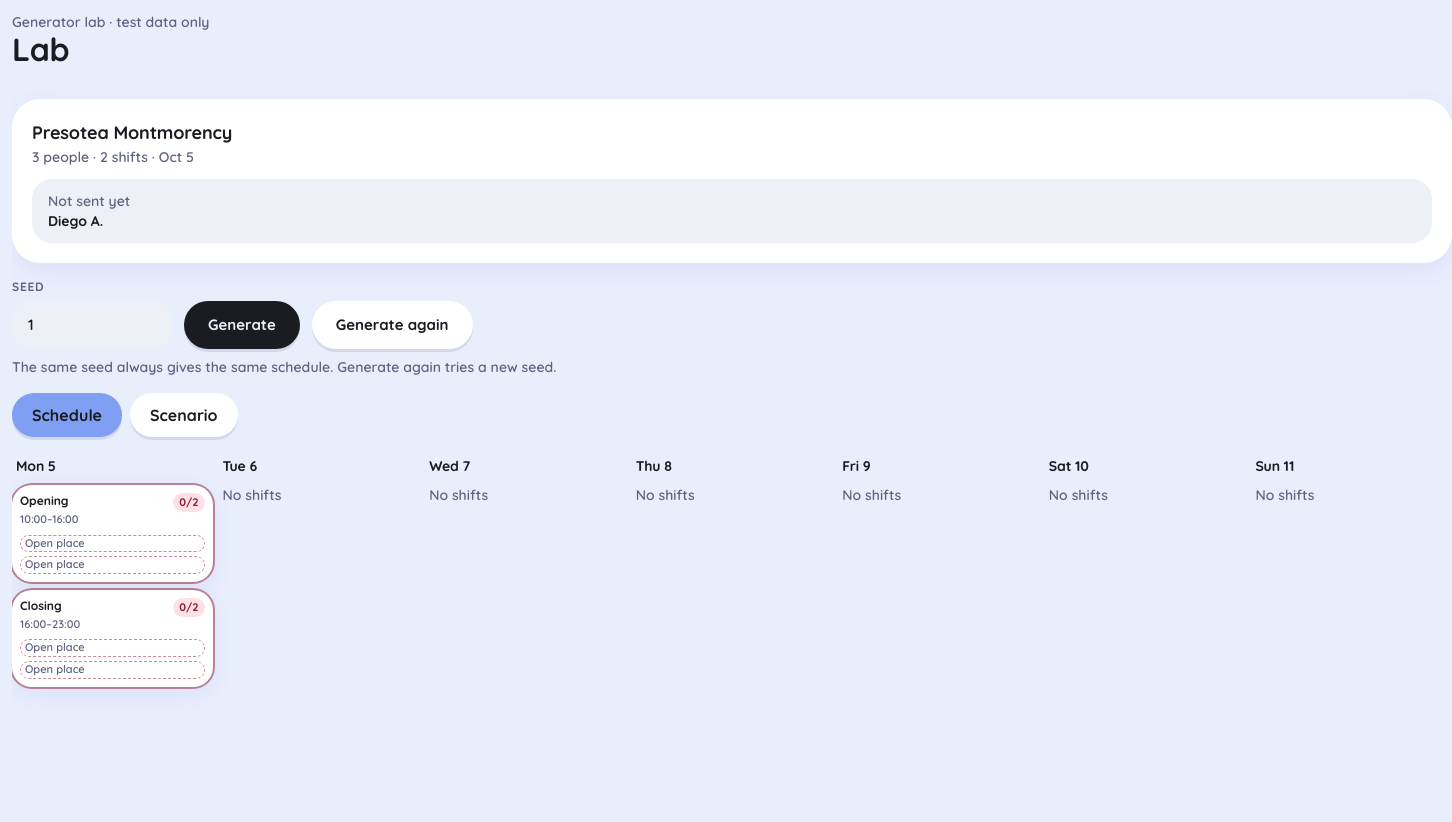
Test case: LabPage › will not generate with a seed that is not a whole number
The width and height of the screenshot is (1452, 822).
Clear the number field labelled "Seed" at (92, 325), box [12, 301, 172, 349]
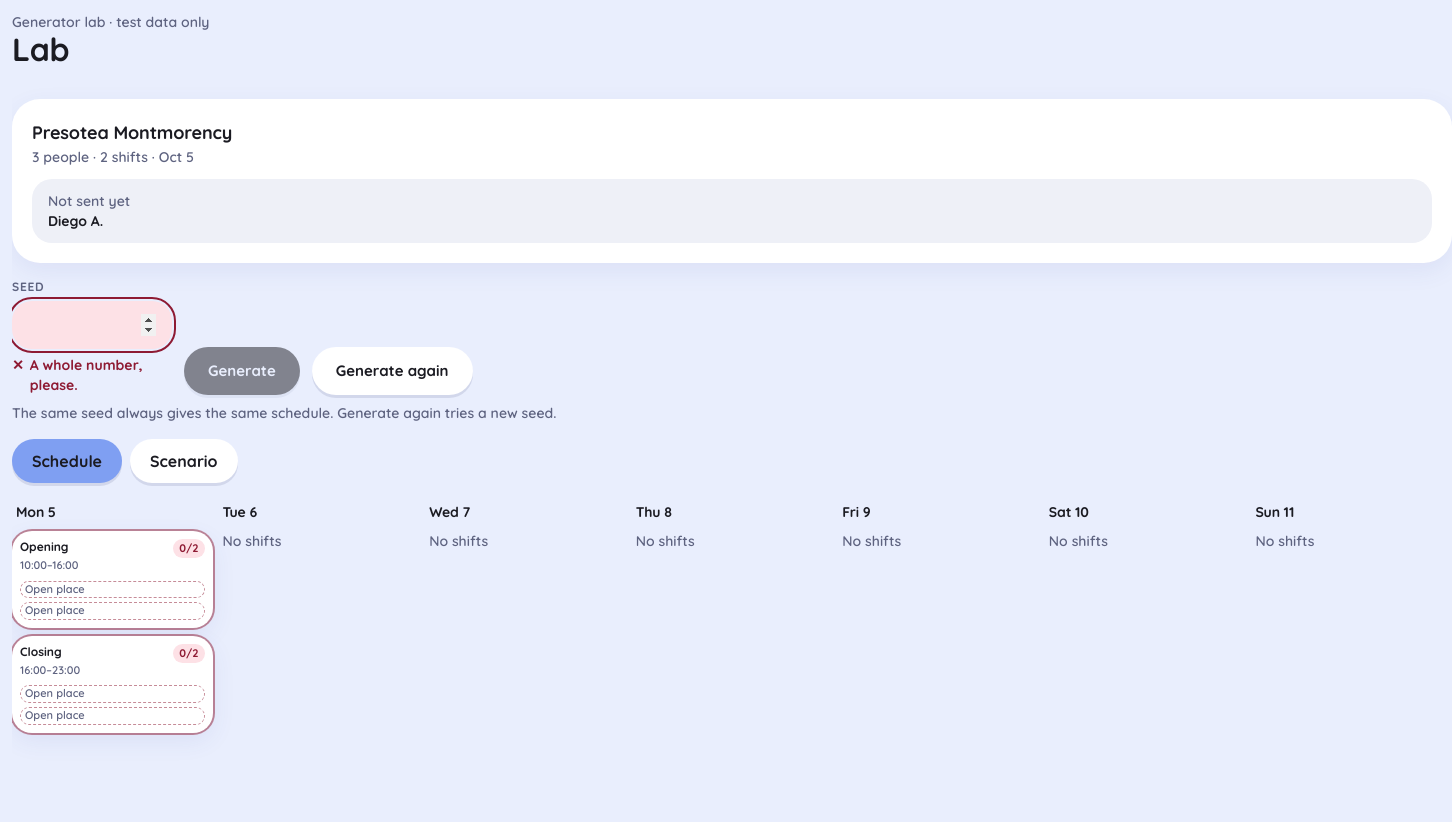
Check: the text "A whole number, please." is shown, box [30, 356, 142, 394]
Check: the button "Generate" is disabled, box [184, 347, 300, 395]
